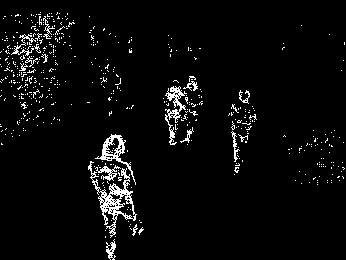person: (90, 133, 142, 259), (229, 88, 255, 175), (182, 70, 204, 147), (163, 78, 183, 143)
